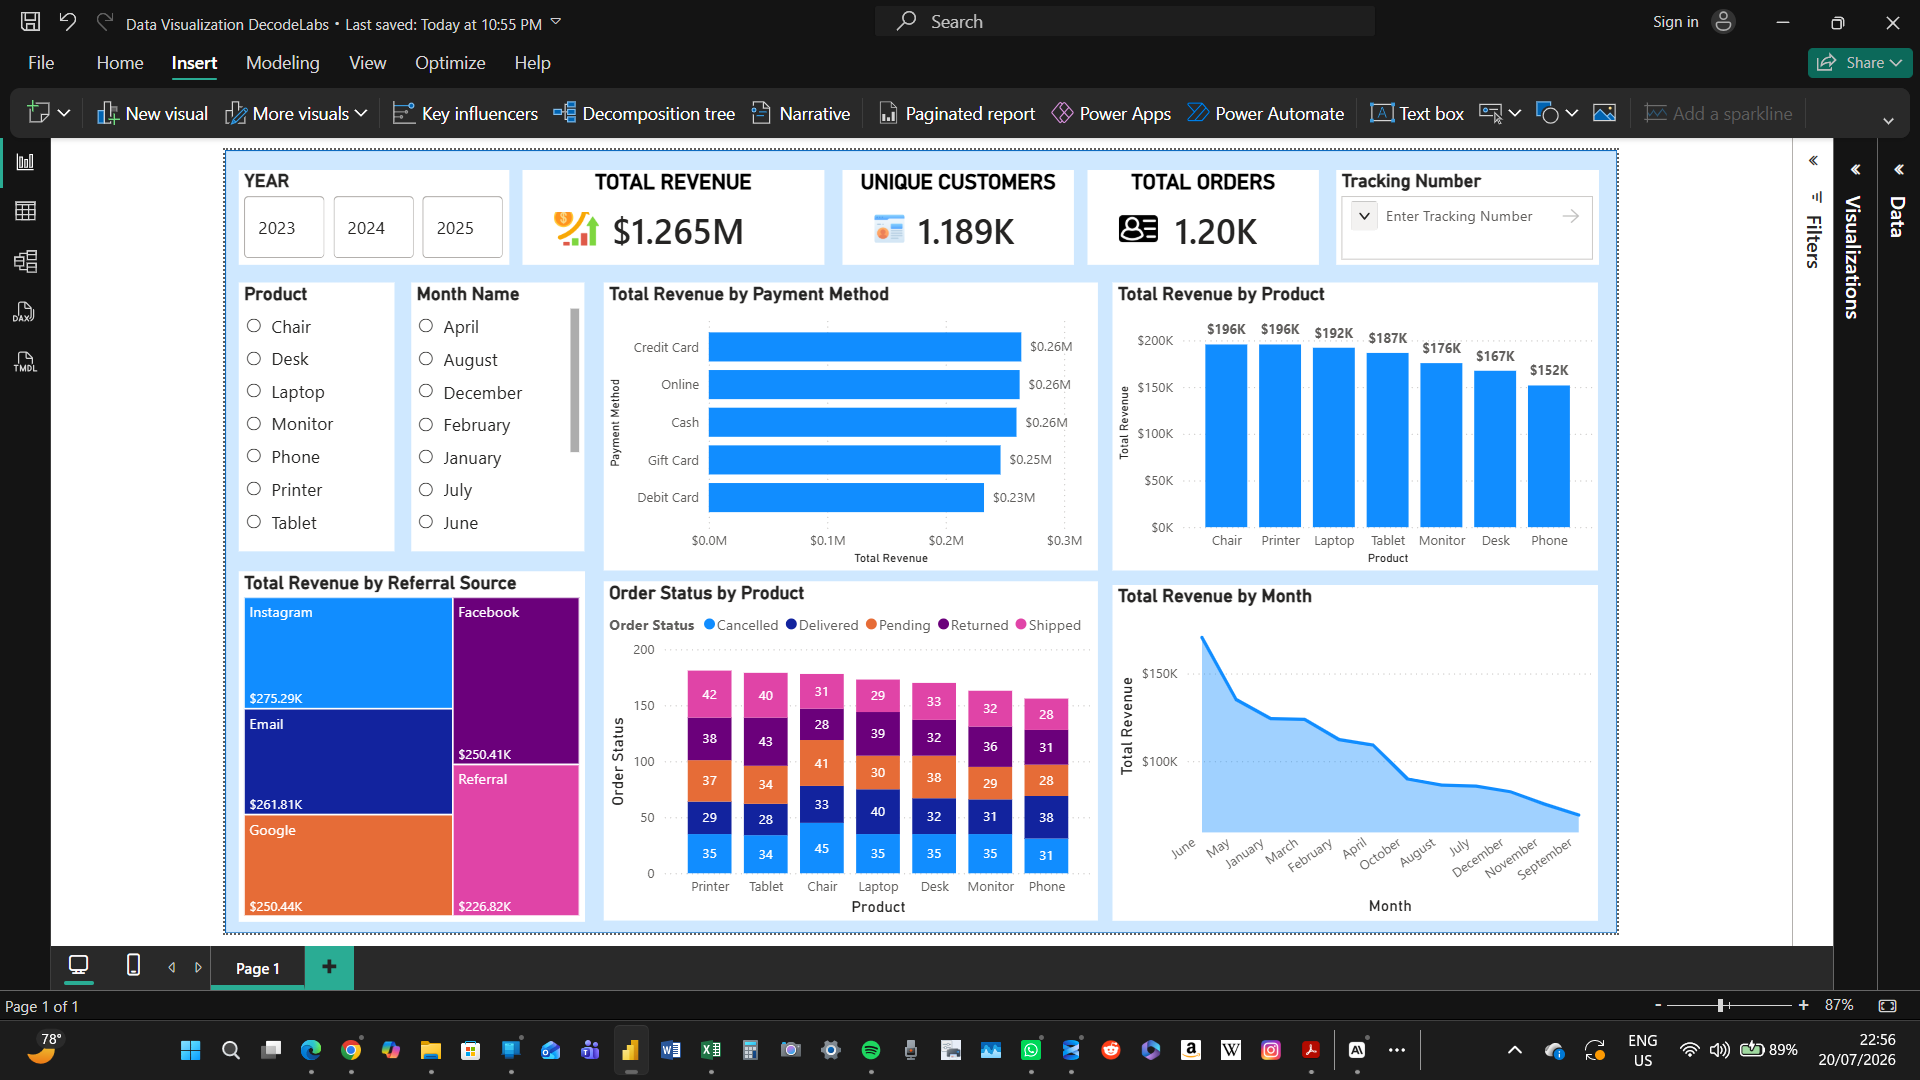

This screenshot's page, from the dashboard's own definition file:
{"tool":"powerbi","page":{"name":"Page 1","canvas":[1280,720],"ordinal":0},"visuals":[{"type":"shape","box":[0,0,1280.3,720.4],"z":1501},{"type":"cardVisual","title":"TOTAL REVENUE","fields":{"Data":["Sum(CLEANED_DATASET.Total Price)"]},"box":[273.7,18.7,277.4,87.1],"z":2001},{"type":"cardVisual","title":"TOTAL ORDERS","fields":{"Data":["CountNonNull(CLEANED_DATASET.Customer ID)"]},"box":[793.6,18.7,212.7,87.1],"z":2002},{"type":"cardVisual","title":"UNIQUE CUSTOMERS","fields":{"Data":["Count(CLEANED_DATASET.Customer ID)"]},"box":[567.2,18.7,212.7,87.1],"z":2006},{"type":"stackedAreaChart","fields":{"Category":["CLEANED_DATASET.Month Name"],"Y":["Sum(CLEANED_DATASET.Total Price)"]},"box":[816,400.6,446.6,308.5],"z":2007},{"type":"clusteredColumnChart","fields":{"Y":["Sum(CLEANED_DATASET.Total Price)"],"Category":["CLEANED_DATASET.Product"]},"box":[816,121.9,446.6,265],"z":2008},{"type":"columnChart","title":"Order Status by Product","fields":{"Category":["CLEANED_DATASET.Product"],"Y":["CountNonNull(CLEANED_DATASET.Order Status)"],"Series":["CLEANED_DATASET.Order Status"]},"box":[348.3,396.8,454,312.2],"z":2009},{"type":"barChart","fields":{"Category":["CLEANED_DATASET.Payment Method"],"Y":["Sum(CLEANED_DATASET.Total Price)"]},"box":[348.3,121.9,454,265],"z":2010},{"type":"advancedSlicerVisual","fields":{"Values":["CLEANED_DATASET.Year"]},"box":[12.4,18.7,248.8,87.1],"z":2011},{"type":"listSlicer","fields":{"Values":["CLEANED_DATASET.Product"]},"box":[12.4,121.9,143.1,247.5],"z":2012},{"type":"listSlicer","fields":{"Values":["CLEANED_DATASET.Month Name"]},"box":[171.7,121.9,159.2,247.5],"z":2013},{"type":"treemap","title":"Total Revenue by Referral Source","fields":{"Group":["CLEANED_DATASET.Referral Source"],"Values":["Sum(CLEANED_DATASET.Total Price)"]},"box":[12.4,386.9,318.5,322.2],"z":2014},{"type":"textSlicer","fields":{"Values":["CLEANED_DATASET.Tracking Number"]},"box":[1021.3,18.7,241.3,87.1],"z":2015}]}

Visuals, with their boxes on the page's 1280x720 design canvas (x1, y1, x2, y2). These are canvas units, not pixel positions in the 1920x1080 screenshot, which may show the page scaled, cropped or inside an application window:
shape: l=0, t=0, r=1280, b=720
"TOTAL REVENUE" cardVisual: l=274, t=19, r=551, b=106
"TOTAL ORDERS" cardVisual: l=794, t=19, r=1006, b=106
"UNIQUE CUSTOMERS" cardVisual: l=567, t=19, r=780, b=106
stackedAreaChart - CLEANED_DATASET.Month Name x Sum(CLEANED_DATASET.Total Price): l=816, t=401, r=1263, b=709
clusteredColumnChart - Sum(CLEANED_DATASET.Total Price) x CLEANED_DATASET.Product: l=816, t=122, r=1263, b=387
"Order Status by Product" columnChart: l=348, t=397, r=802, b=709
barChart - CLEANED_DATASET.Payment Method x Sum(CLEANED_DATASET.Total Price): l=348, t=122, r=802, b=387
advancedSlicerVisual - CLEANED_DATASET.Year: l=12, t=19, r=261, b=106
listSlicer - CLEANED_DATASET.Product: l=12, t=122, r=156, b=369
listSlicer - CLEANED_DATASET.Month Name: l=172, t=122, r=331, b=369
"Total Revenue by Referral Source" treemap: l=12, t=387, r=331, b=709
textSlicer - CLEANED_DATASET.Tracking Number: l=1021, t=19, r=1263, b=106
